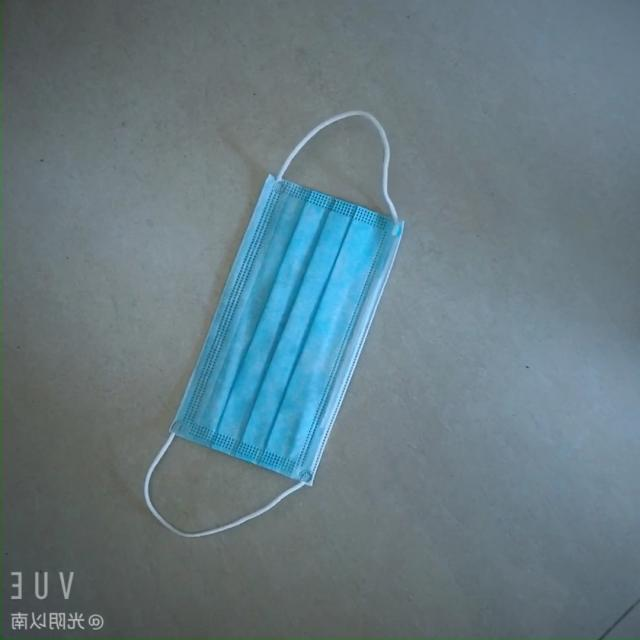face mask: (170, 171, 404, 492)
